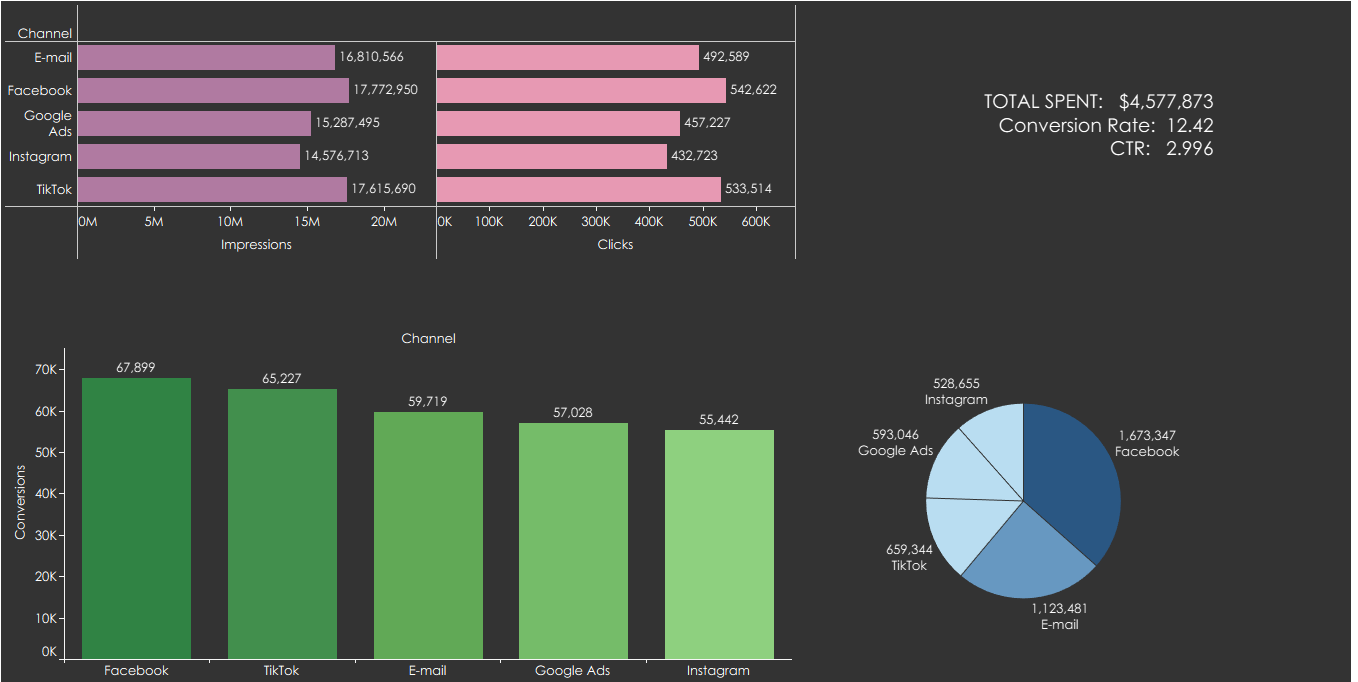

Layout of this report page (visuals, bound fields, positions):
{"tool":"tableau","page":{"name":"Dashboard 1","canvas":[1000,1000],"units":"permille","ordinal":0},"visuals":[{"type":"worksheet","title":"Sheet 2","mark":"Automatic","rows":["Channel"],"cols":["Impressions","Clicks"],"box":[7,14.3,589.7,460.7]},{"type":"worksheet","title":"Sheet 4","mark":"Automatic","box":[596.7,14.3,396.3,460.7]},{"type":"worksheet","title":"Sheet 1","mark":"Automatic","rows":["Conversions"],"cols":["Channel"],"box":[7,474.9,548.7,510.8]},{"type":"worksheet","title":"Sheet 3","mark":"Pie","box":[555.8,474.9,437.2,510.8]}]}

Visuals, with their boxes on the dashboard's canvas, which has no fixed pixel size, in thousandths of its width and height (x1, y1, x2, y2). These are canvas units, not pixel positions in the 1358x682 screenshot, which may show the page scaled, cropped or inside an application window:
"Sheet 2" worksheet: locate(7, 14, 597, 475)
"Sheet 4" worksheet: locate(597, 14, 993, 475)
"Sheet 1" worksheet: locate(7, 475, 556, 986)
"Sheet 3" worksheet (Pie marks): locate(556, 475, 993, 986)
